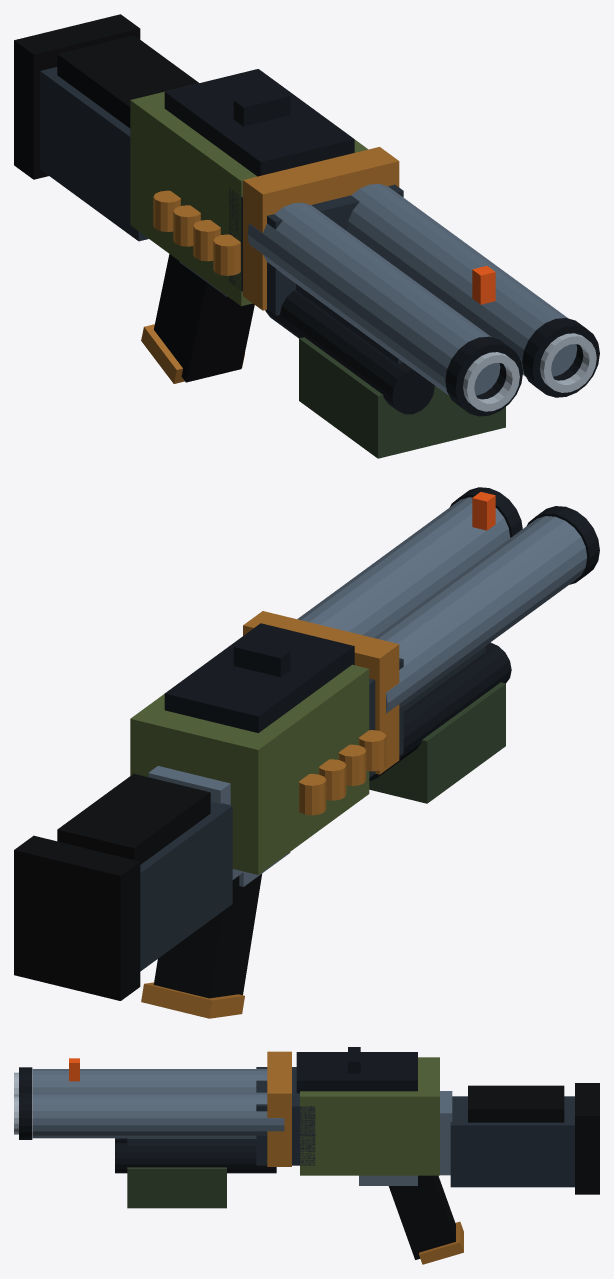
The model's file is TPS_Shotgun_Original.obj.
3 renders of one model, top to bottom at view 1: azimuth 30°, elevation 25°; view 2: azimuth 150°, elevation 25°; view 3: azimuth 270°, elevation 25°, orthographic. The views are drawn at different scales.
Parts seen in each view (by area): view 1: 010_L_Barrel_MAT_STEEL, 015_R_Barrel_MAT_STEEL, 004_Receiver_MAT_GREEN, 005_ReceiverTop_MAT_BLACK, 020_HandPump_MAT_OLIVE, 001_ShoulderStock_MAT_DARK, 007_PistolGrip_MAT_RUBBER, 026_ReceiverCap_MAT_BRASS, 002_StockCheek_MAT_RUBBER, 013_L_LowerTube_MAT_BLACK, 000_Buttplate_MAT_RUBBER, 009_FrontBlock_MAT_DARK (+12 smaller); view 2: 004_Receiver_MAT_GREEN, 000_Buttplate_MAT_RUBBER, 010_L_Barrel_MAT_STEEL, 015_R_Barrel_MAT_STEEL, 005_ReceiverTop_MAT_BLACK, 001_ShoulderStock_MAT_DARK, 002_StockCheek_MAT_RUBBER, 020_HandPump_MAT_OLIVE, 007_PistolGrip_MAT_RUBBER, 026_ReceiverCap_MAT_BRASS, 013_L_LowerTube_MAT_BLACK, 008_GripCap_MAT_BRASS (+10 smaller); view 3: 004_Receiver_MAT_GREEN, 015_R_Barrel_MAT_STEEL, 001_ShoulderStock_MAT_DARK, 010_L_Barrel_MAT_STEEL, 005_ReceiverTop_MAT_BLACK, 020_HandPump_MAT_OLIVE, 002_StockCheek_MAT_RUBBER, 018_R_LowerTube_MAT_BLACK, 007_PistolGrip_MAT_RUBBER, 000_Buttplate_MAT_RUBBER, 026_ReceiverCap_MAT_BRASS, 009_FrontBlock_MAT_DARK (+7 smaller).
Part boxes in pixels (box(x1,y1,x2,y2)): 010_L_Barrel_MAT_STEEL: box(247, 202, 500, 395); 015_R_Barrel_MAT_STEEL: box(346, 184, 577, 376); 004_Receiver_MAT_GREEN: box(130, 76, 368, 306); 005_ReceiverTop_MAT_BLACK: box(164, 69, 354, 176); 020_HandPump_MAT_OLIVE: box(299, 337, 505, 458); 001_ShoulderStock_MAT_DARK: box(40, 67, 148, 241); 007_PistolGrip_MAT_RUBBER: box(154, 254, 254, 382); 026_ReceiverCap_MAT_BRASS: box(243, 147, 399, 310); 002_StockCheek_MAT_RUBBER: box(57, 35, 198, 128); 013_L_LowerTube_MAT_BLACK: box(265, 290, 434, 414); 000_Buttplate_MAT_RUBBER: box(14, 14, 140, 179); 009_FrontBlock_MAT_DARK: box(229, 184, 403, 315); 004_Receiver_MAT_GREEN: box(130, 664, 369, 874); 000_Buttplate_MAT_RUBBER: box(14, 835, 140, 1000); 010_L_Barrel_MAT_STEEL: box(374, 516, 587, 713); 015_R_Barrel_MAT_STEEL: box(297, 497, 510, 637); 005_ReceiverTop_MAT_BLACK: box(164, 623, 354, 732); 001_ShoulderStock_MAT_DARK: box(140, 802, 232, 971); 002_StockCheek_MAT_RUBBER: box(57, 773, 210, 864); 020_HandPump_MAT_OLIVE: box(369, 682, 505, 803); 007_PistolGrip_MAT_RUBBER: box(153, 874, 261, 998); 026_ReceiverCap_MAT_BRASS: box(243, 611, 399, 774); 013_L_LowerTube_MAT_BLACK: box(369, 642, 511, 780); 008_GripCap_MAT_BRASS: box(141, 982, 244, 1018); 004_Receiver_MAT_GREEN: box(300, 1057, 439, 1175); 015_R_Barrel_MAT_STEEL: box(32, 1092, 284, 1138); 001_ShoulderStock_MAT_DARK: box(450, 1096, 574, 1187); 010_L_Barrel_MAT_STEEL: box(32, 1069, 267, 1092); 005_ReceiverTop_MAT_BLACK: box(296, 1052, 417, 1093); 020_HandPump_MAT_OLIVE: box(127, 1167, 226, 1208); 002_StockCheek_MAT_RUBBER: box(468, 1085, 564, 1122); 018_R_LowerTube_MAT_BLACK: box(115, 1142, 276, 1173); 007_PistolGrip_MAT_RUBBER: box(388, 1175, 455, 1259); 000_Buttplate_MAT_RUBBER: box(575, 1083, 599, 1194); 026_ReceiverCap_MAT_BRASS: box(267, 1051, 291, 1166); 009_FrontBlock_MAT_DARK: box(256, 1067, 315, 1165).
Bounding box in the file's own units: 0.367 × 0.7097 × 1.88.
